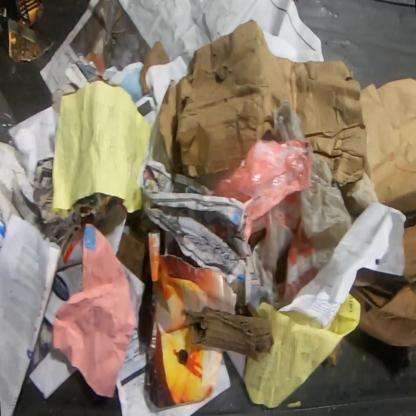cardboard: (156, 18, 372, 188), (349, 223, 415, 347), (180, 279, 275, 363), (360, 77, 415, 213), (140, 42, 172, 94)
soft_plastic: (298, 152, 352, 250), (0, 86, 18, 151)
